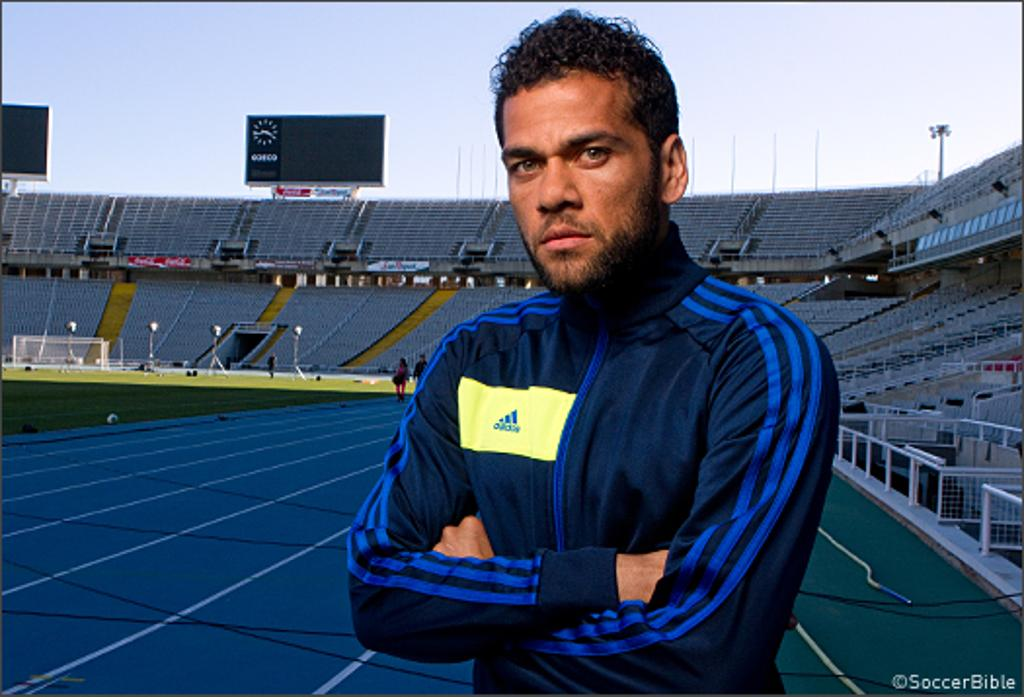face: (510, 80, 644, 278)
